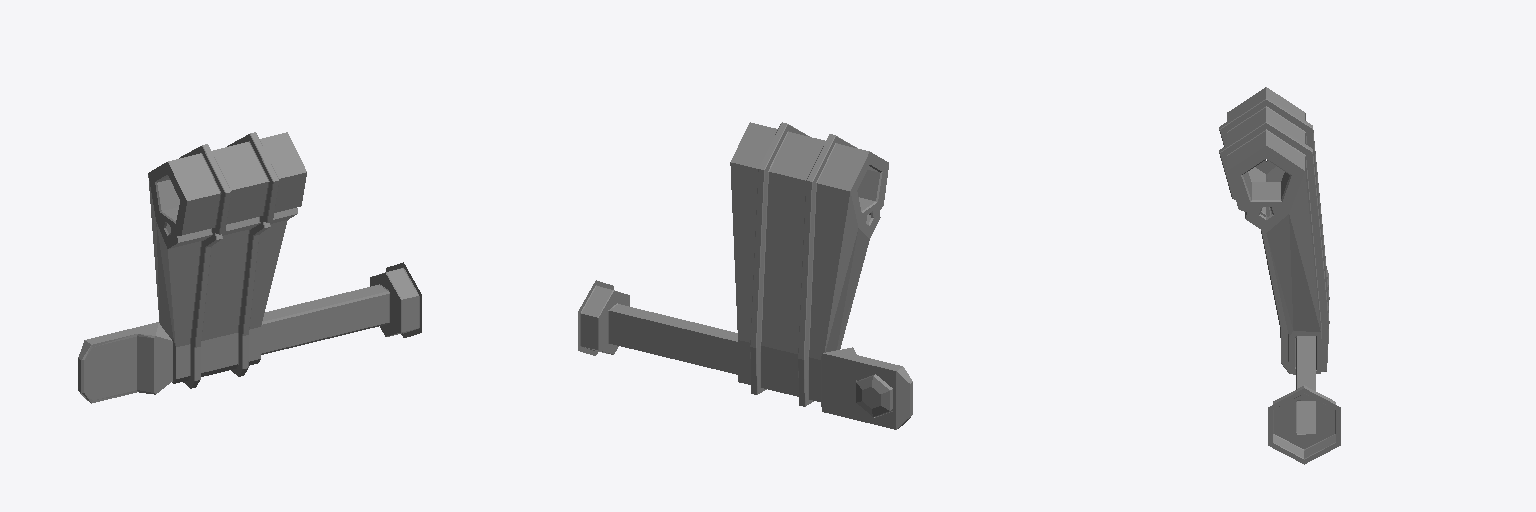
Rendered from barrera_izquierda.obj.
The picture shows the model from 3 angles: view 1: azimuth 30°, elevation 25°; view 2: azimuth 150°, elevation 25°; view 3: azimuth 270°, elevation 25°; orthographic projection.
Parts seen in each view (by area): view 1: barrera_izquierda; view 2: barrera_izquierda; view 3: barrera_izquierda.
Boxes of the visible parts, x1,y1,x2,y2 form: barrera_izquierda: [78, 132, 421, 403]; barrera_izquierda: [578, 122, 912, 429]; barrera_izquierda: [1219, 87, 1340, 464].
Size of the model in its own units: 8.76 by 6.84 by 2.89.